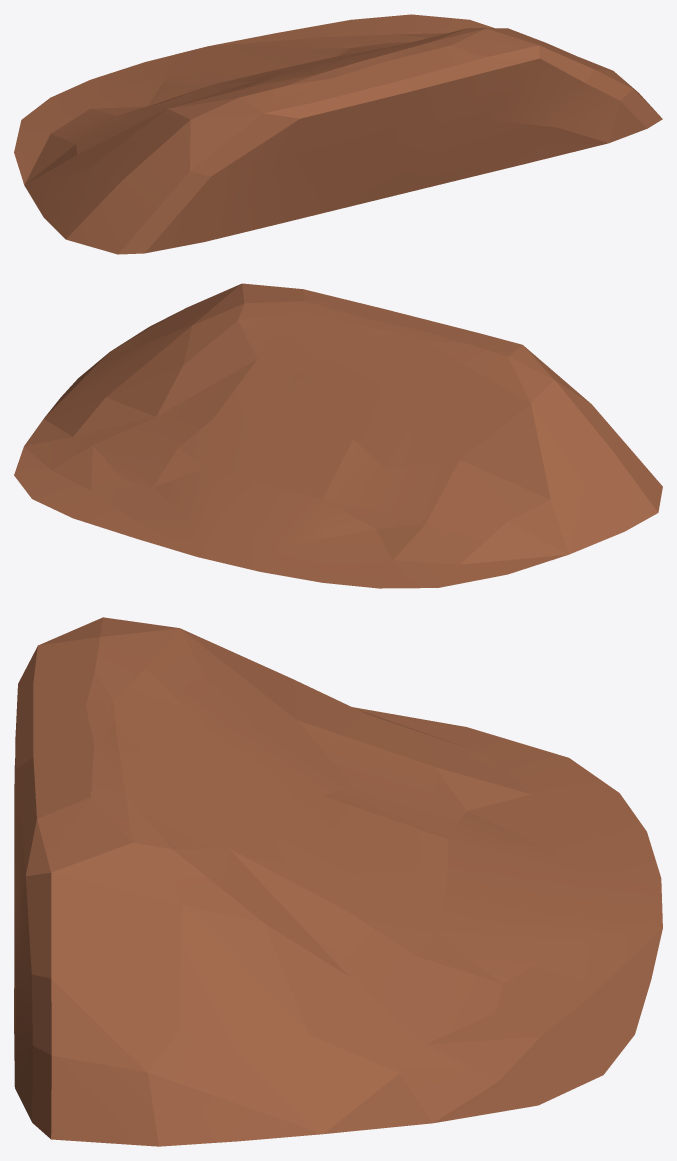
File: entity113572.glb
3 views of the same model, one above another, from view 1: azimuth 30°, elevation 25°; view 2: azimuth 150°, elevation 25°; view 3: azimuth 270°, elevation 25° (orthographic). The views are drawn at different scales.
Visible parts, largest first — view 1: node_SM_Env_Ground_02; view 2: node_SM_Env_Ground_02; view 3: node_SM_Env_Ground_02.
Boxes of the visible parts, x1=… form: node_SM_Env_Ground_02: x1=14, y1=14, x2=662, y2=254; node_SM_Env_Ground_02: x1=14, y1=283, x2=662, y2=588; node_SM_Env_Ground_02: x1=14, y1=617, x2=662, y2=1146.
Size of the model in its own units: 67.68 by 12.66 by 40.4.
1 material, 1 textured.
